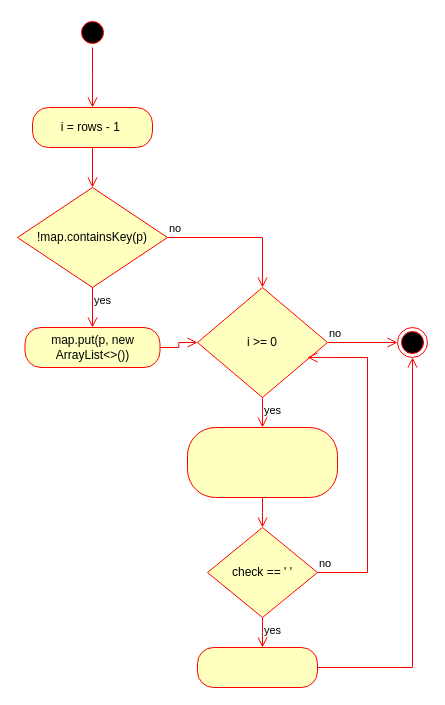
Some shapes in this 445 by 705 pixel diagram are drawn without their labels. The shapes that lost their labels are listed below. From the top down, each one's box as (x1, y1, x2, y2) in pixels, then its label:
(186, 426, 338, 498): BoardPosition bp = new boardPosition(i, c) check = whatsAtPos(bp)
(196, 646, 318, 688): map.get(p).add(bp)
